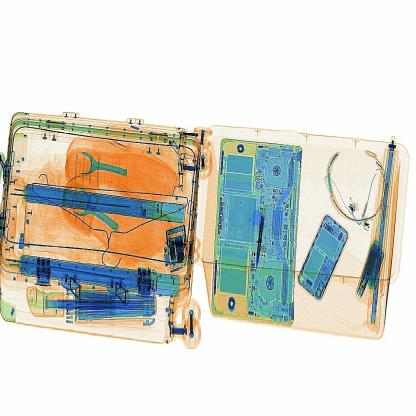gun: (246, 194, 277, 282)
